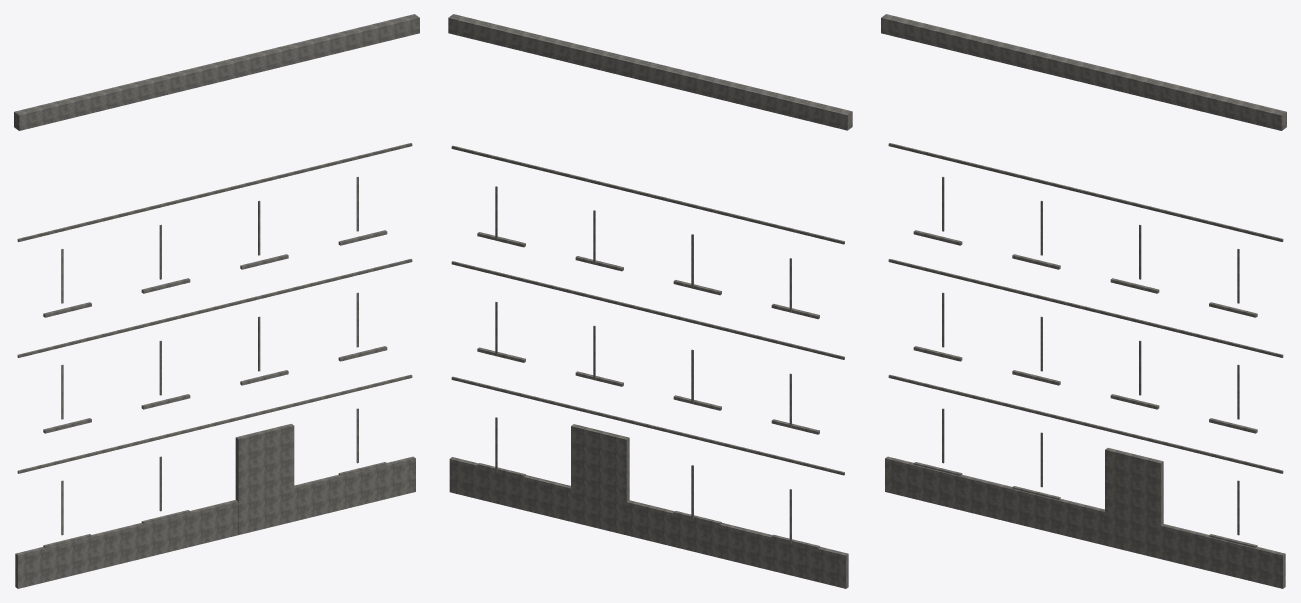
Rendered from Street_BlockL1_Trim.obj.
3 views of the same model, side by side, from view 1: azimuth 30°, elevation 25°; view 2: azimuth 150°, elevation 25°; view 3: azimuth 330°, elevation 25° (orthographic).
Size of the model in its own units: 11.4 by 12.93 by 0.485.
Materials: 1 (1 with a texture image).
